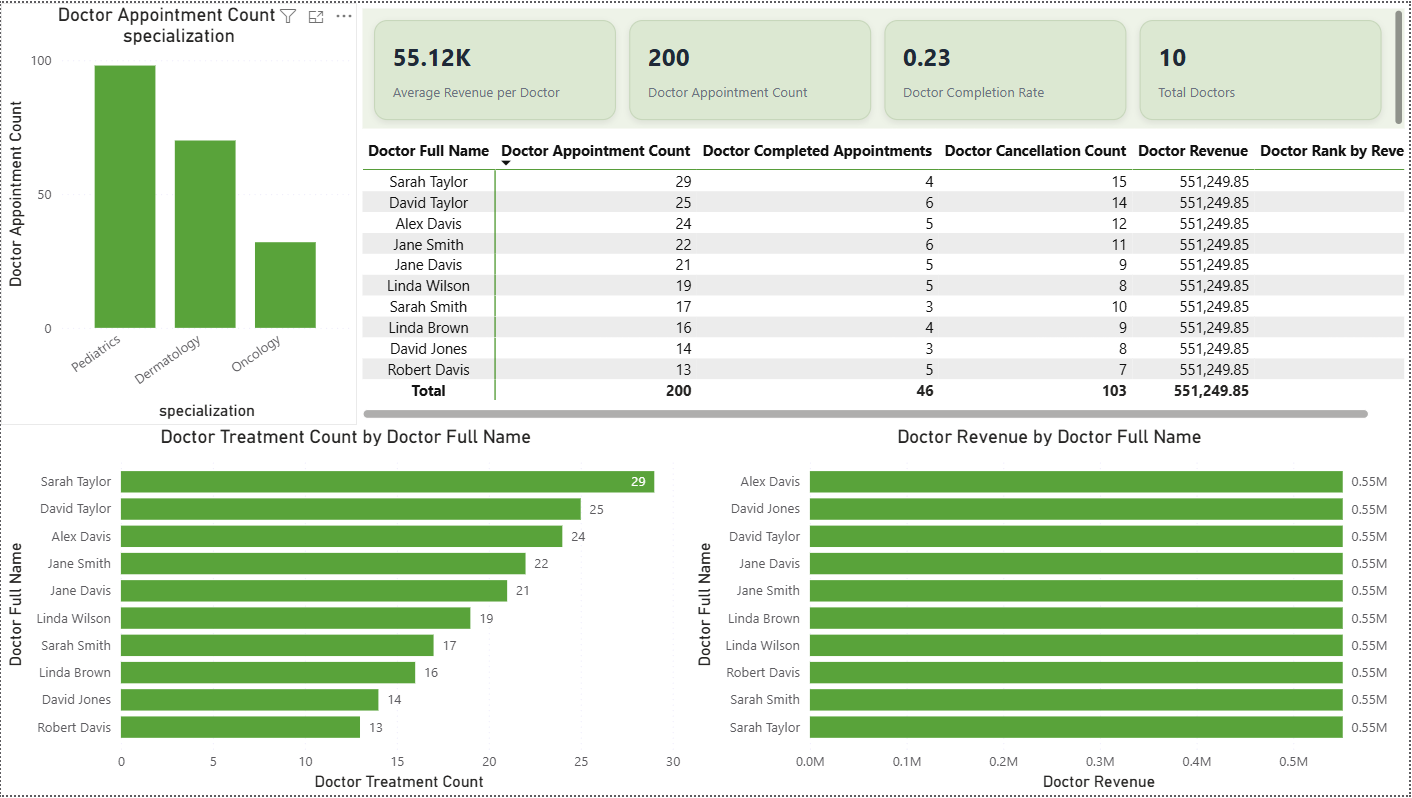

Layout of this report page (visuals, bound fields, positions):
{"tool":"powerbi","page":{"name":"Doctor Performance","canvas":[1280,720],"ordinal":2},"visuals":[{"type":"barChart","fields":{"Category":["doctors.Doctor Full Name"],"Y":["doctors.Doctor Revenue"]},"box":[626.7,383.3,653.3,336.7],"z":0},{"type":"barChart","fields":{"Category":["doctors.Doctor Full Name"],"Y":["doctors.Doctor Treatment Count"]},"box":[0,383.3,626.7,336.7],"z":1000},{"type":"columnChart","fields":{"Y":["doctors.Doctor Appointment Count"],"Category":["doctors.specialization"]},"box":[0,0,323.3,383.3],"z":2000},{"type":"pivotTable","fields":{"Rows":["doctors.Doctor Full Name"],"Values":["doctors.Doctor Appointment Count","doctors.Doctor Completed Appointments","doctors.Doctor Cancellation Count","doctors.Doctor Revenue","DateTable.Doctor Rank by Revenue"]},"box":[323.3,118.9,956.7,264.4],"z":3000},{"type":"htmlContent443BE3AD55E043BF878BED274D3A6855","fields":{"content":["DateTable.Doctor Cards Group HTML"]},"box":[323.3,0,956.7,118.9],"z":4000}]}

Visuals, with their boxes in screenshot pixels (x1, y1, x2, y2), scaled from the page's 1280x720 canvas onto the 1412x798 screenshot:
barChart - doctors.Doctor Full Name x doctors.Doctor Revenue: left=691, top=425, right=1411, bottom=797
barChart - doctors.Doctor Full Name x doctors.Doctor Treatment Count: left=0, top=425, right=691, bottom=797
columnChart - doctors.Doctor Appointment Count x doctors.specialization: left=0, top=0, right=357, bottom=425
pivotTable - doctors.Doctor Full Name x doctors.Doctor Appointment Count: left=357, top=132, right=1411, bottom=425
htmlContent443BE3AD55E043BF878BED274D3A6855 - DateTable.Doctor Cards Group HTML: left=357, top=0, right=1411, bottom=132
